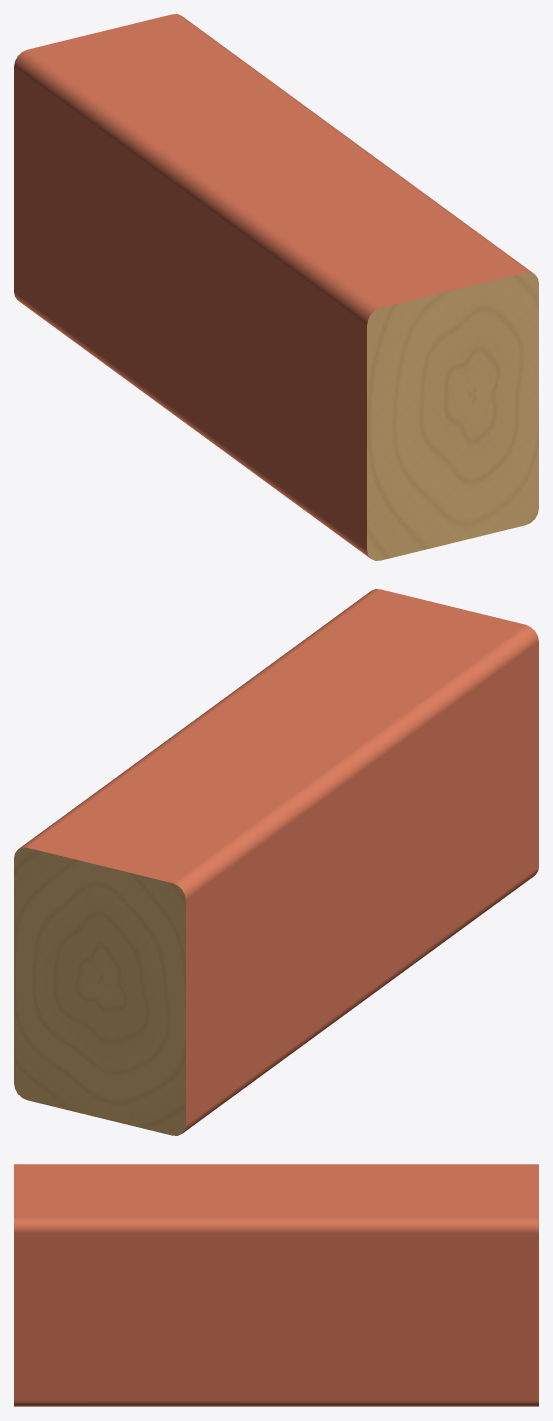
File: play-coral-block-coral.glb
3 views of the same model, one above another, from view 1: azimuth 30°, elevation 25°; view 2: azimuth 150°, elevation 25°; view 3: azimuth 270°, elevation 25° (orthographic). The views are drawn at different scales.
Visible parts, largest first — view 1: Block_Painted_Body, Block_Paint_Top, Block_Wood_End_Front; view 2: Block_Painted_Body, Block_Paint_Top, Block_Wood_End_Back; view 3: Block_Paint_Left, Block_Paint_Top, Block_Paint_Bottom.
Part boxes in pixels (box(x1,y1,x2,y2)): Block_Painted_Body: box(14, 56, 370, 558); Block_Paint_Top: box(18, 14, 533, 314); Block_Wood_End_Front: box(367, 272, 538, 560); Block_Painted_Body: box(182, 631, 538, 1133); Block_Paint_Top: box(19, 589, 534, 889); Block_Wood_End_Back: box(14, 847, 185, 1135); Block_Paint_Left: box(14, 1224, 538, 1405); Block_Paint_Top: box(14, 1164, 538, 1224); Block_Paint_Bottom: box(14, 1406, 538, 1406).
Size of the model in its own units: 0.052 by 0.073 by 0.185.
Materials: 2 (1 with a texture image).
